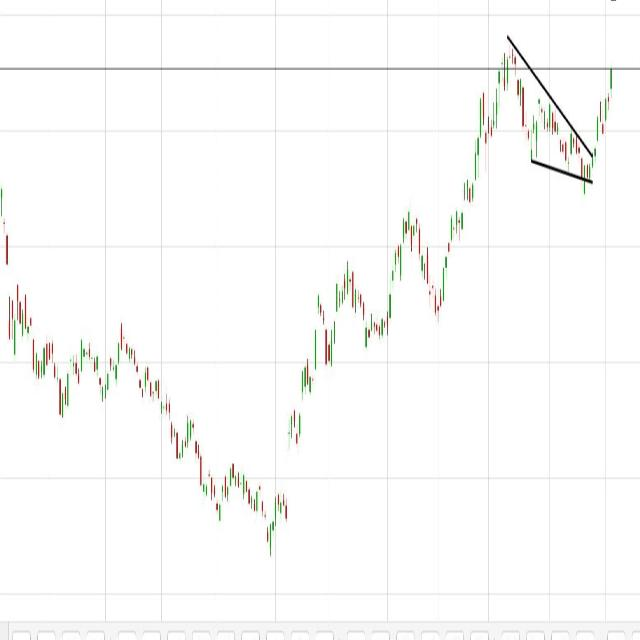Falling-Wedge: (471, 30, 610, 195)
